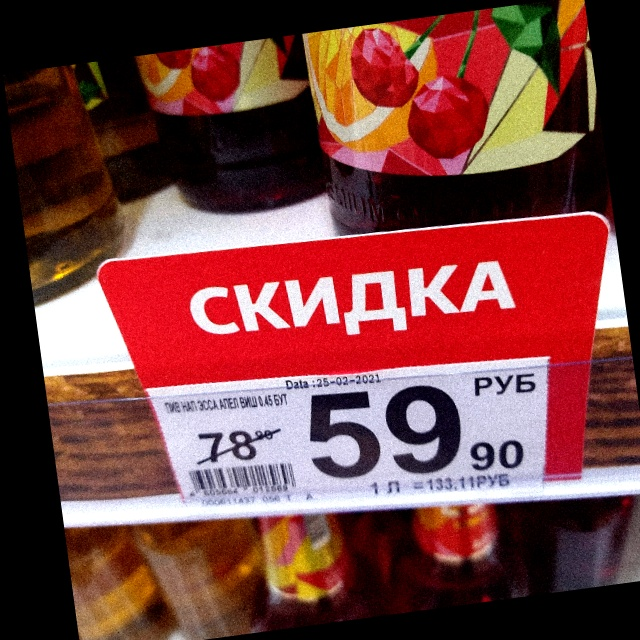barcode: (184, 461, 300, 499)
name: (162, 392, 292, 417)
price: (309, 382, 526, 479)
price_tag: (140, 354, 551, 506)
